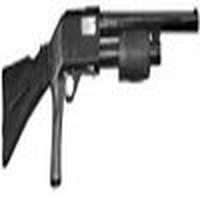gun: (2, 6, 200, 164)
